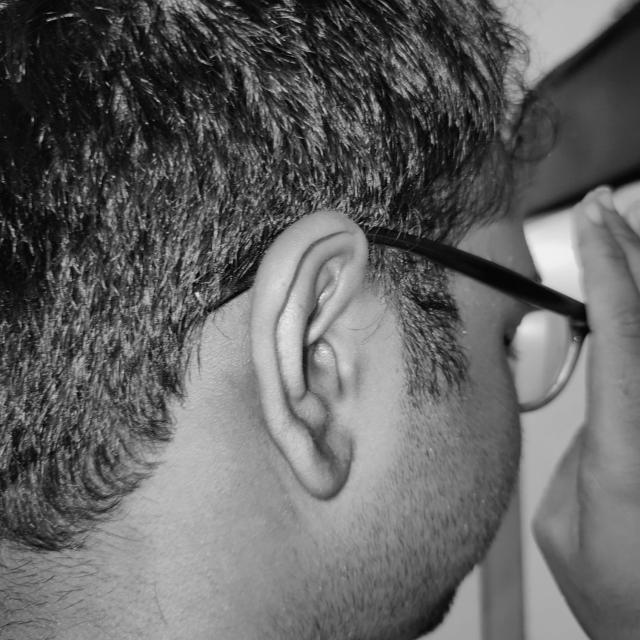ear: (250, 211, 368, 498)
